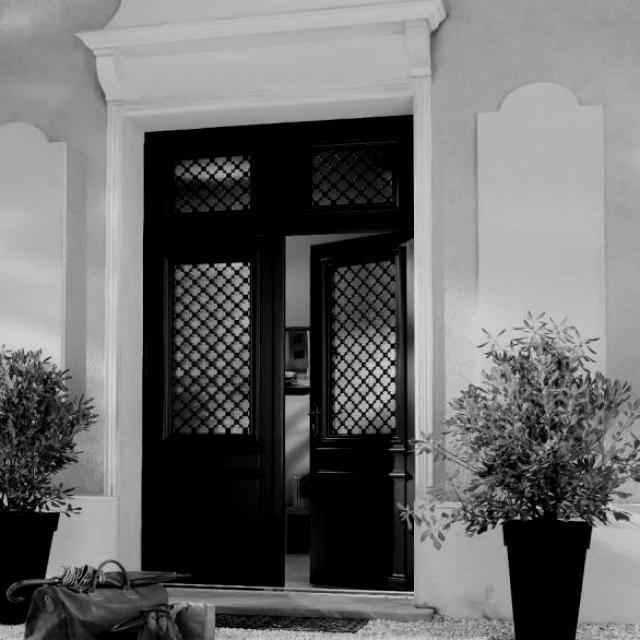door: (307, 231, 413, 591)
